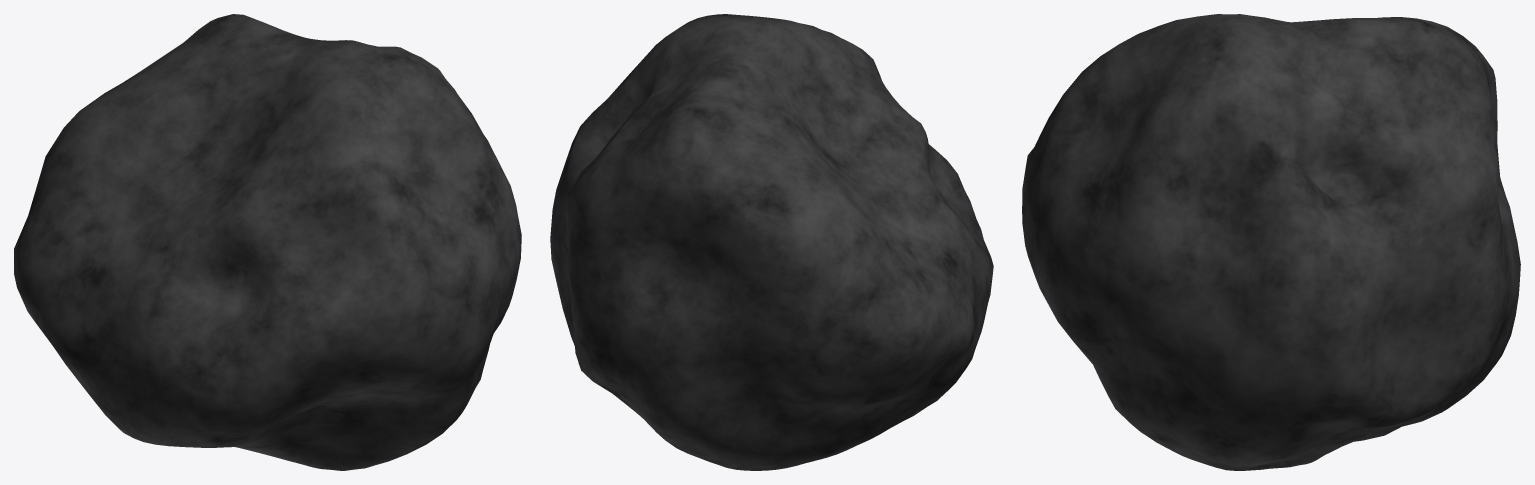
The model's file is meteor1.fbx.
3 renders of one model, left to right at view 1: azimuth 30°, elevation 25°; view 2: azimuth 150°, elevation 25°; view 3: azimuth 270°, elevation 25°, orthographic. The views are drawn at different scales.
Parts seen in each view (by area): view 1: Sphere; view 2: Sphere; view 3: Sphere.
Part boxes in pixels (x1,y1,x2,y2): Sphere: [14, 14, 521, 470]; Sphere: [550, 14, 993, 470]; Sphere: [1022, 14, 1520, 470].
Size of the model in its own units: 203 by 188 by 189.
Materials: 1 (1 with a texture image).
